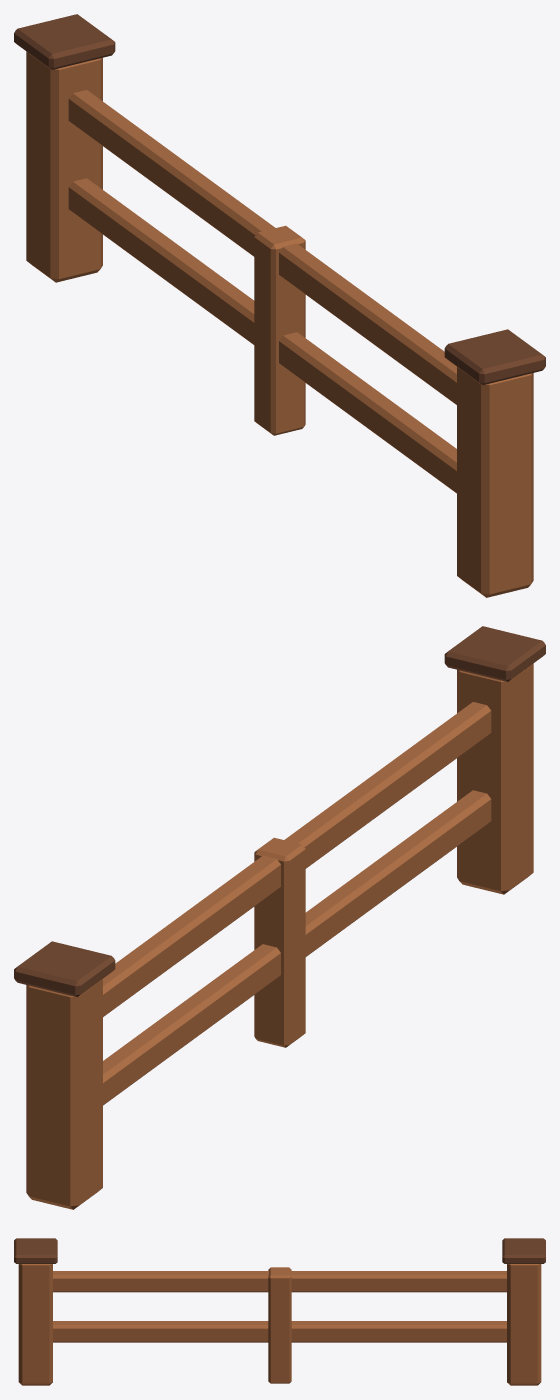
Rendered from Lodge_BayDivider.fbx.
The picture shows the model from 3 angles, top to bottom: view 1: azimuth 30°, elevation 25°; view 2: azimuth 150°, elevation 25°; view 3: azimuth 270°, elevation 25°; orthographic projection. The views are drawn at different scales.
Parts seen in each view (by area): view 1: Dividers, Caps; view 2: Dividers, Caps; view 3: Dividers, Caps.
Boxes of the visible parts, x1,y1,x2,y2 form: Dividers: (26, 51, 533, 597); Caps: (14, 14, 545, 385); Dividers: (26, 663, 533, 1209); Caps: (14, 626, 545, 997); Dividers: (18, 1264, 541, 1385); Caps: (14, 1238, 545, 1263).
Size of the model in its own units: 0.95 by 3.19 by 11.55.
